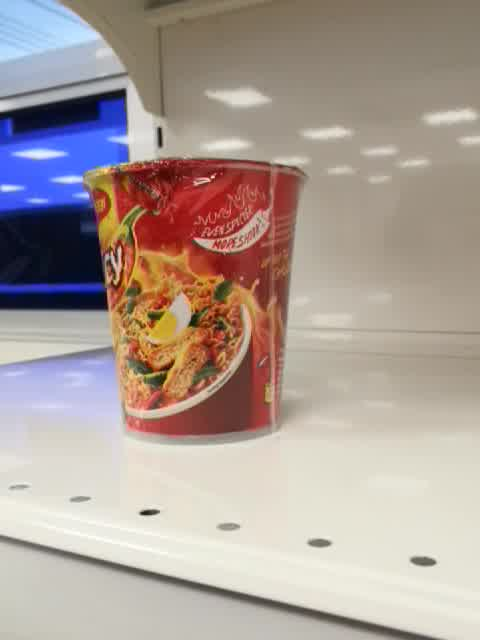maggi: (83, 157, 308, 447)
